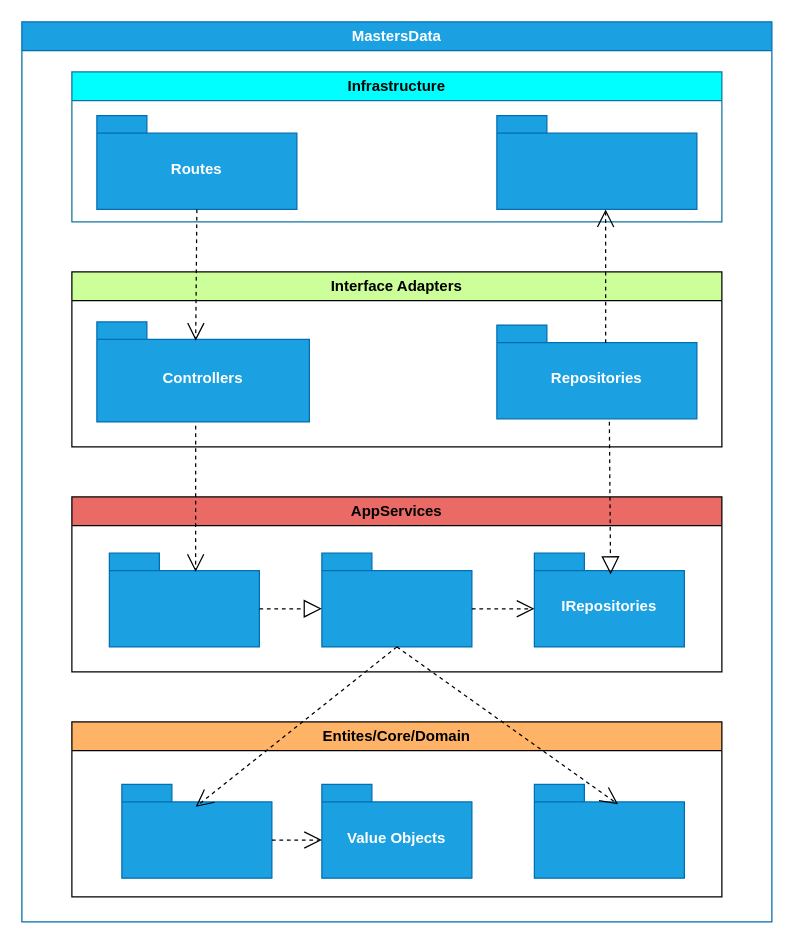
Image size: 794x944. Some labels were removed from this diagram. The centre of each missing label's shape, as x and y in pixels:
"Aggregates" belongs at point 196,830.
"Domain Services" belongs at point 608,830.
"IServices" belongs at point 183,599.
"Persistence" belongs at point 596,161.
"Services" belongs at point 396,599.
